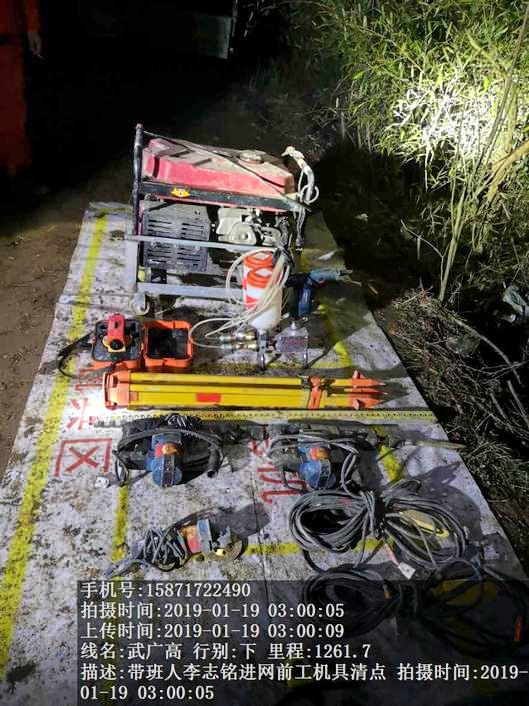DJ: (126, 120, 315, 305)
DX: (279, 481, 476, 564), (109, 415, 254, 489), (267, 417, 429, 482), (107, 510, 259, 578)
